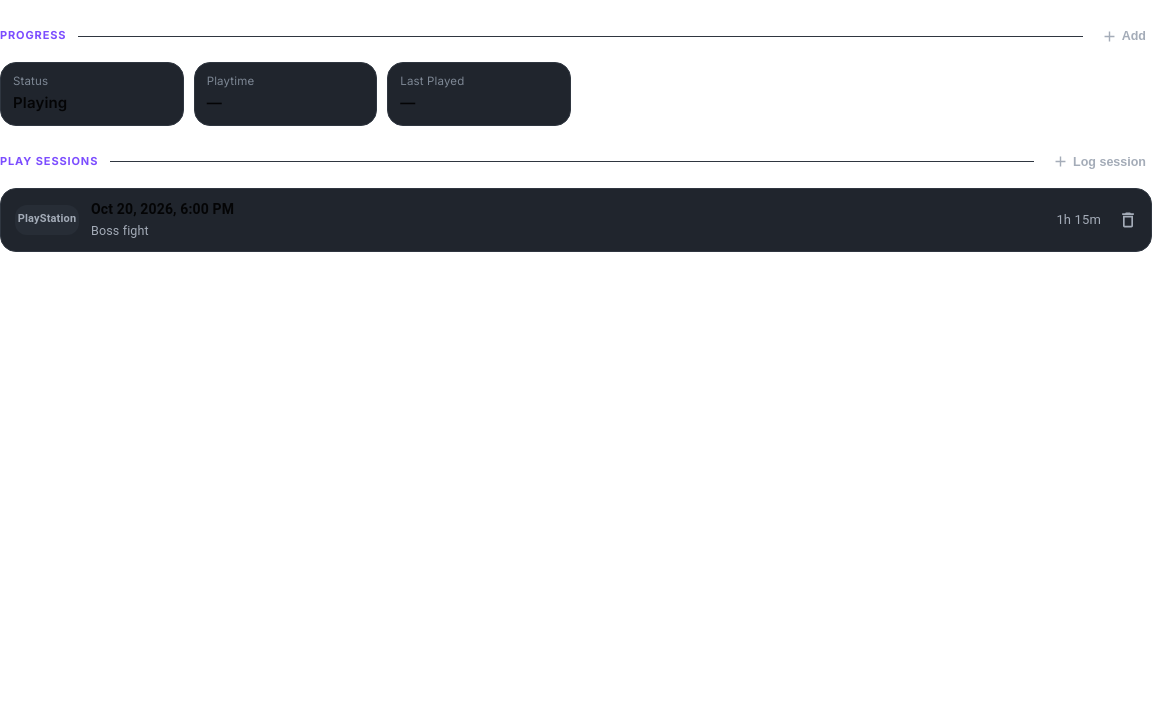
Test case: GameProgressSection › lists play sessions and logs a new one
Expected: the text "1h 15m" is shown, x1=1056 y1=210 x2=1101 y2=229
Expected: the text "Boss fight" is shown, x1=91 y1=223 x2=149 y2=238
Click the button "Log session" at (1099, 162), box x1=1046 y1=151 x2=1151 y2=172
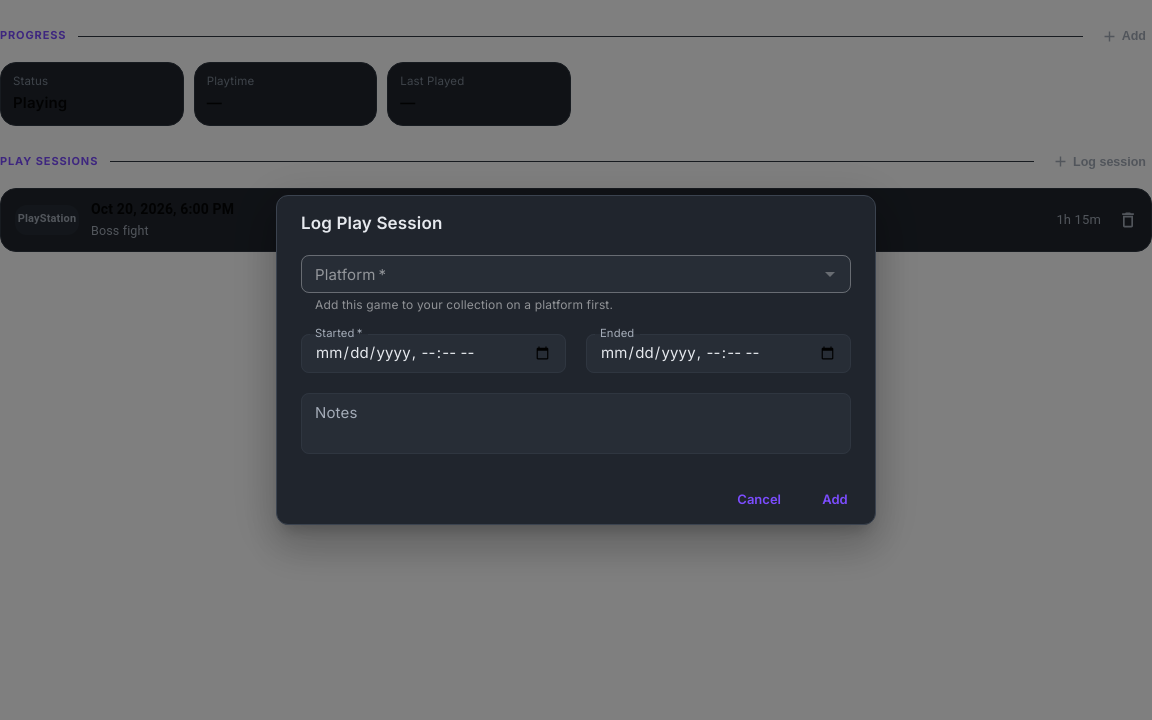
Now the dialog shows "Session", box x1=301 y1=213 x2=442 y2=233
